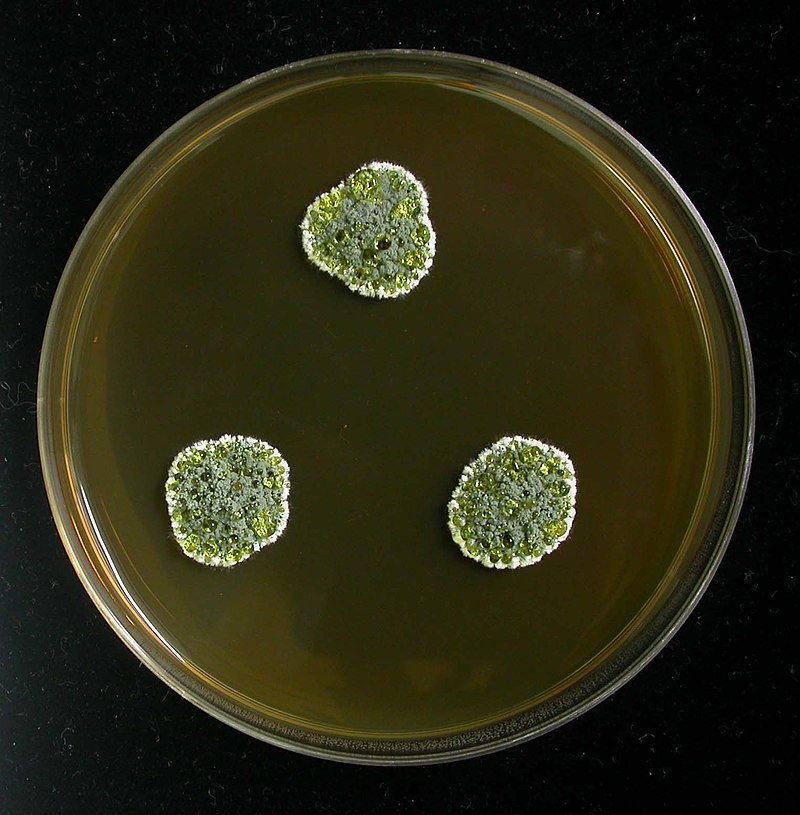Penicillium: (304, 160, 440, 296), (447, 433, 573, 571), (166, 442, 294, 559)
